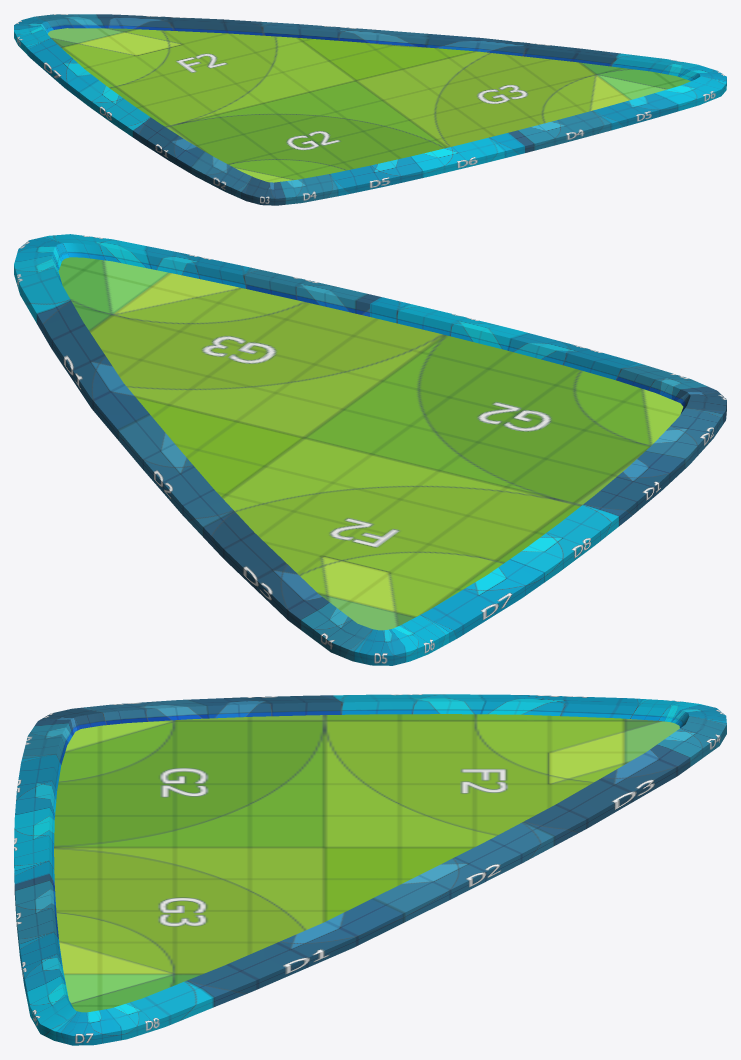
The model's file is GrassBorder5.fbx.
3 renders of one model, top to bottom at view 1: azimuth 30°, elevation 25°; view 2: azimuth 150°, elevation 25°; view 3: azimuth 270°, elevation 25°, orthographic. The views are drawn at different scales.
Visible parts, largest first — view 1: GrassBorder5; view 2: GrassBorder5; view 3: GrassBorder5.
Boxes of the visible parts, bbox=[...] form: GrassBorder5: bbox=[14, 14, 726, 205]; GrassBorder5: bbox=[14, 234, 726, 665]; GrassBorder5: bbox=[14, 694, 726, 1045].
Bounding box in the file's own units: 14.66 × 0.3457 × 12.93.
Materials: 1 (1 with a texture image).
